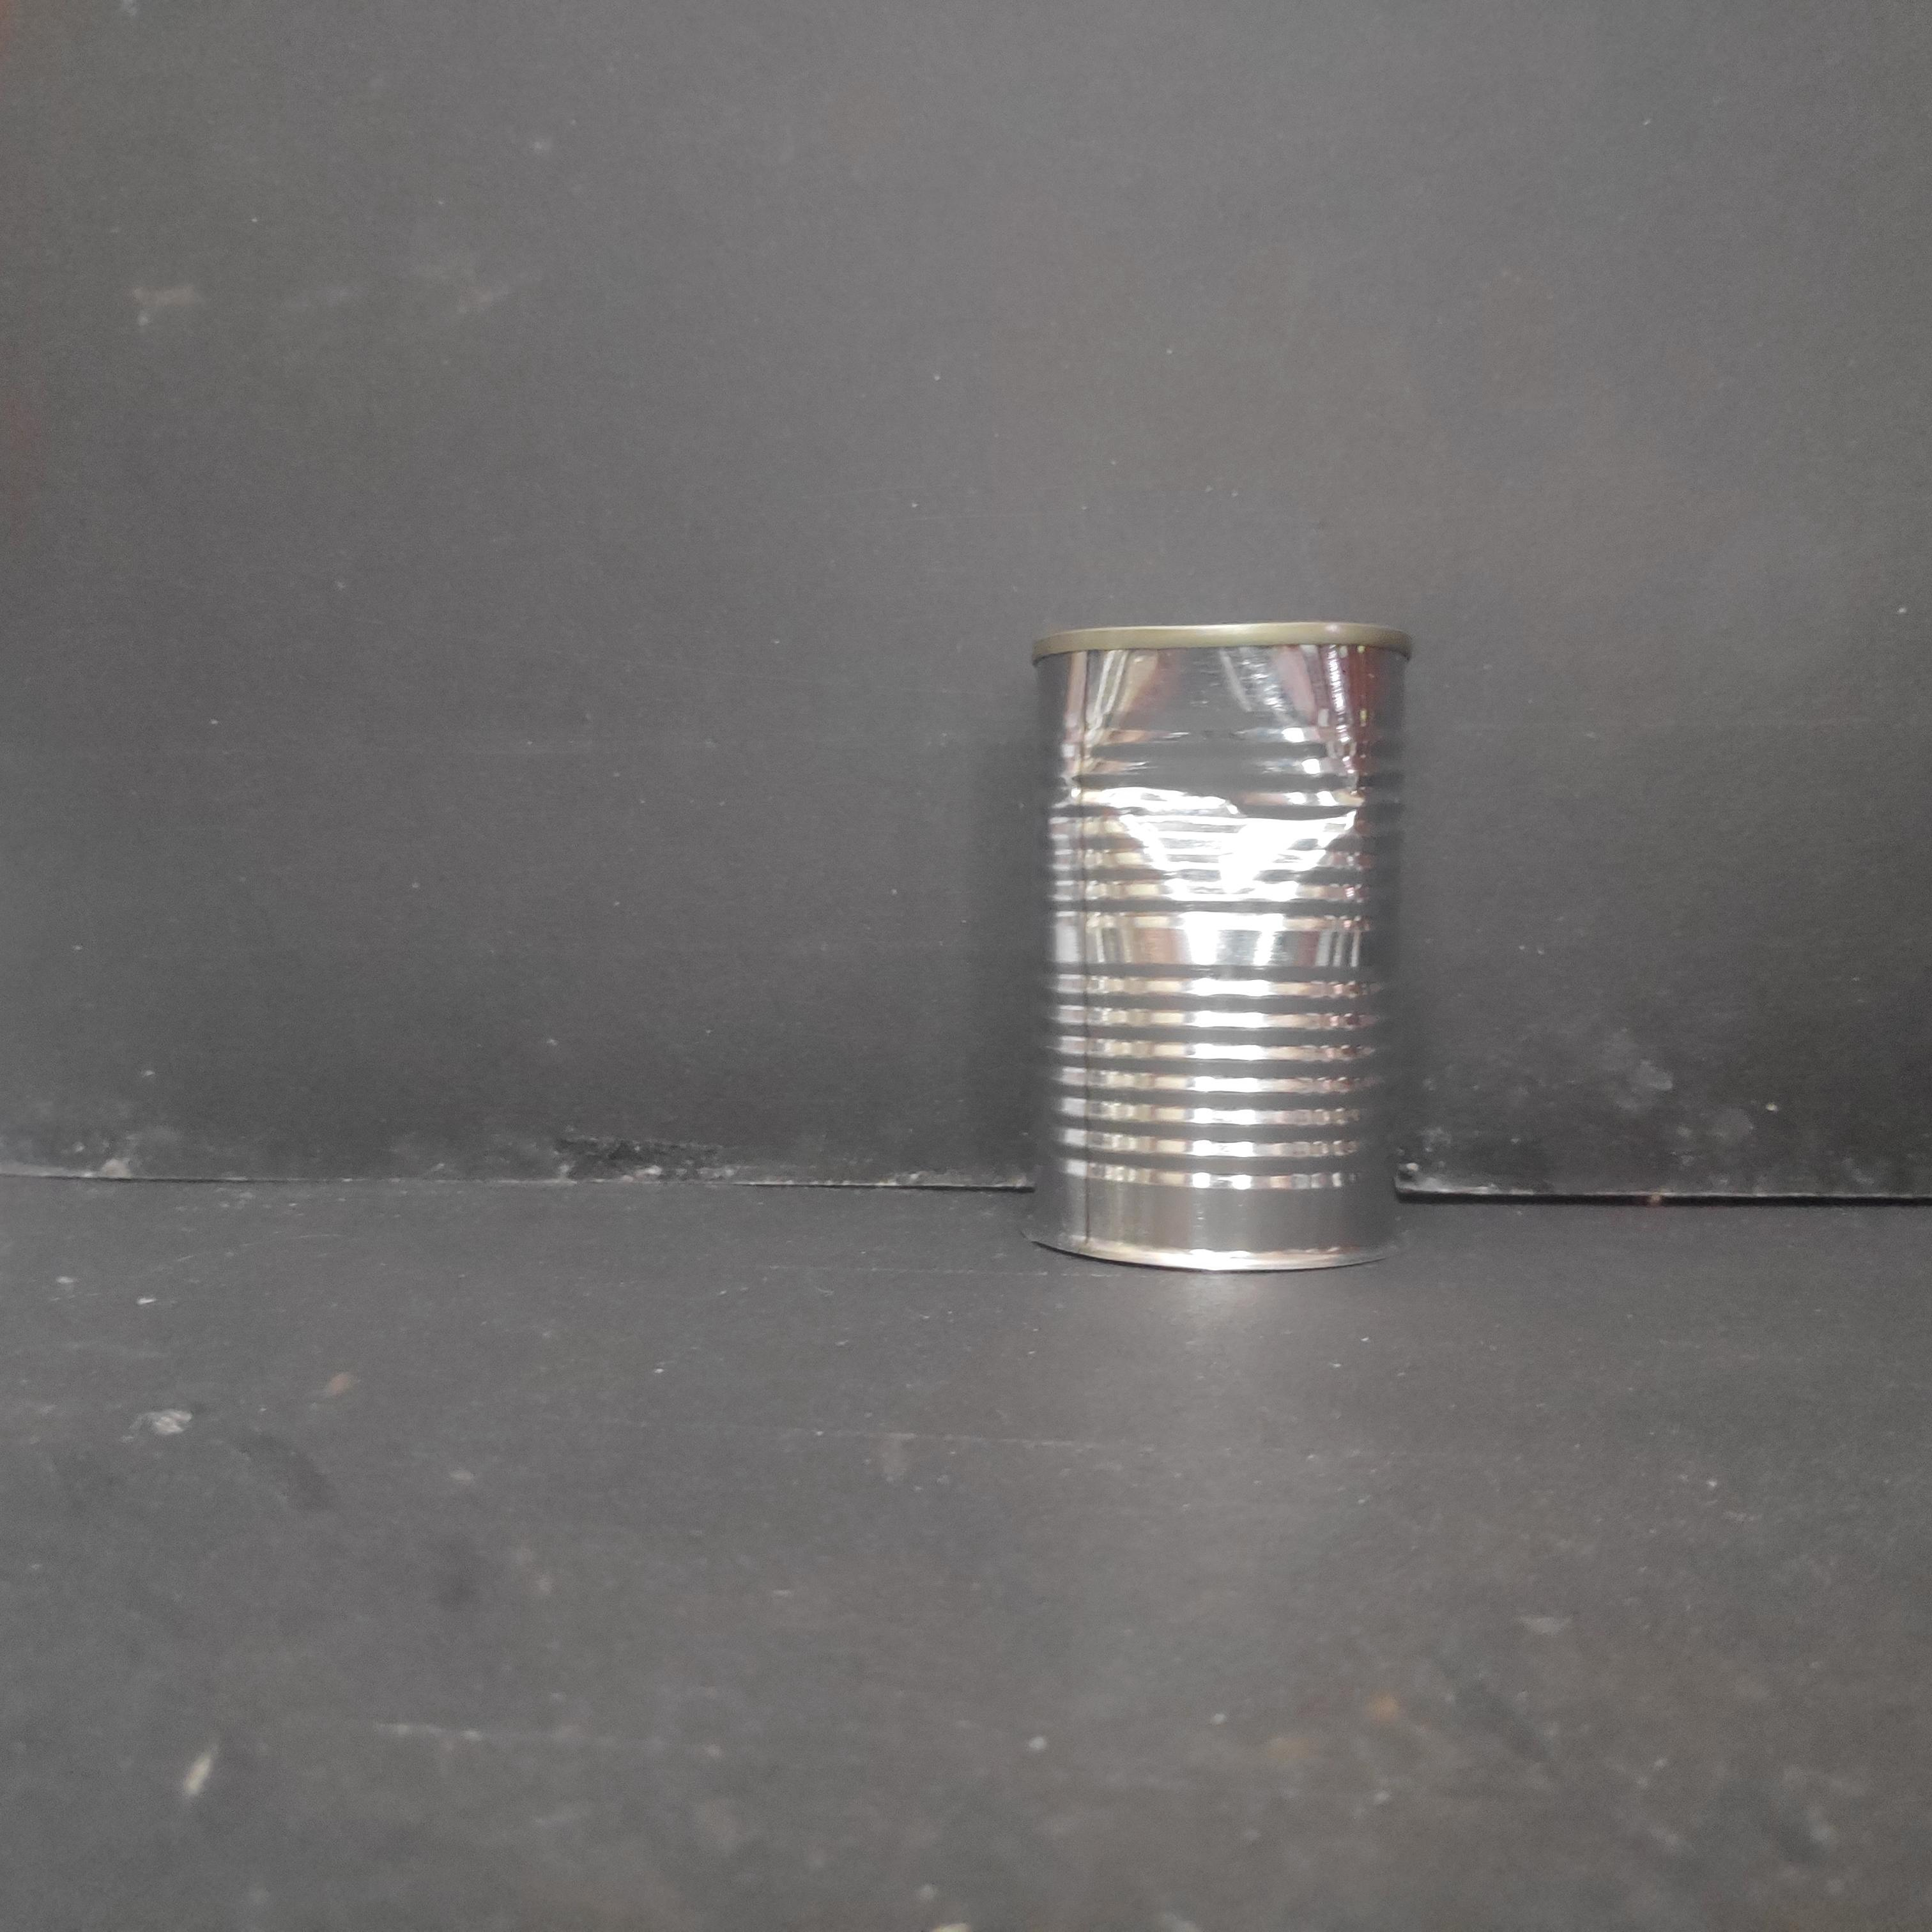Minor Defect: (1020, 614, 1429, 1289)
